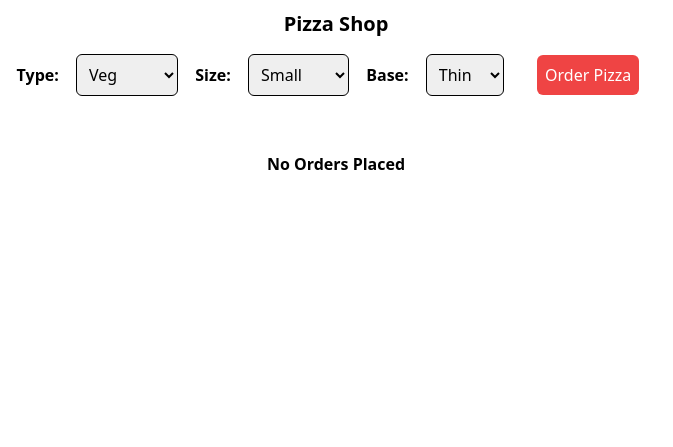
Should show Main section when we have an order
Click the button "Order Pizza": {"x": 588, "y": 75} [537, 55, 639, 95]
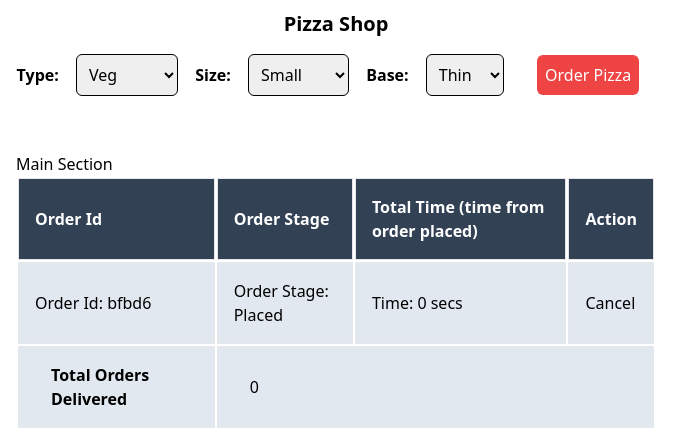
Expected: the element with test id "orders-section" is shown, [16, 152, 656, 430]
